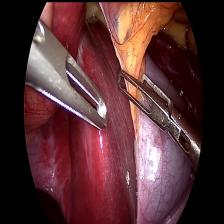Grasper: (112, 66, 199, 172), (29, 18, 111, 130)
